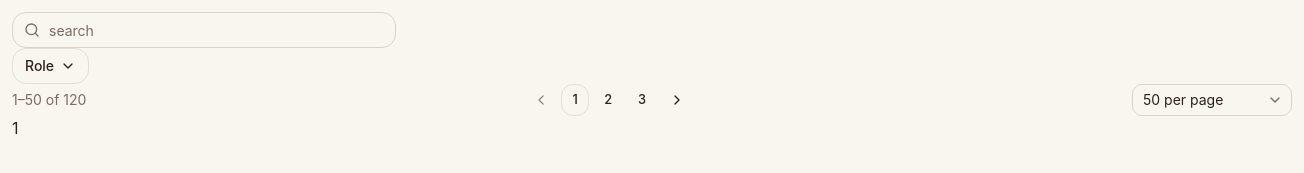
Test: facets › values within a facet accumulate as an OR set and toggle off
The width and height of the screenshot is (1304, 173).
Click the button "Role": (51, 66) [12, 48, 89, 84]
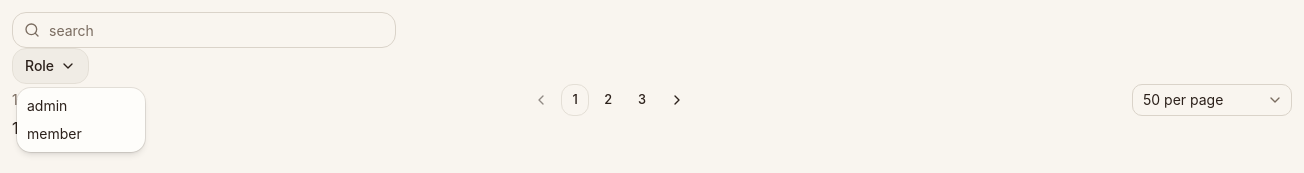
Click the menu item "Admin": (47, 106) [27, 97, 67, 114]
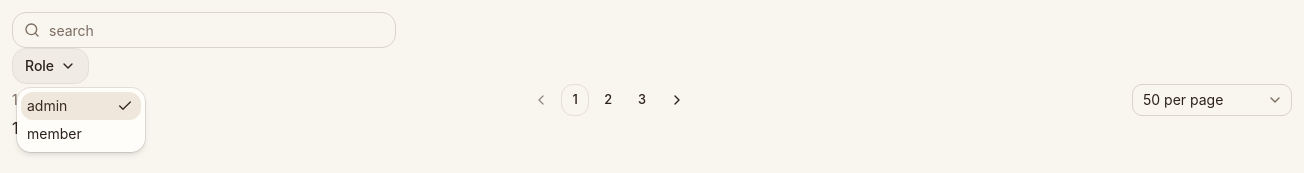
Click the menu item "Member": (54, 134) [27, 125, 82, 142]
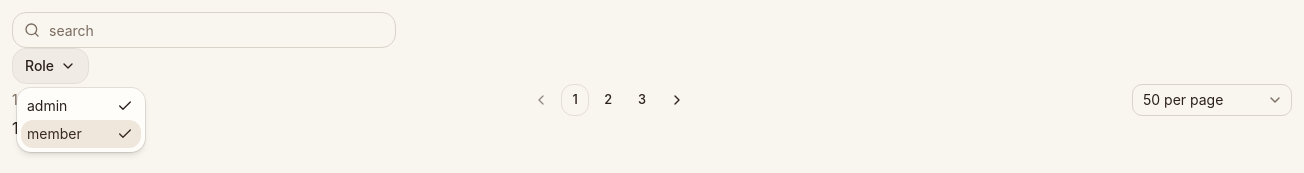
Now the text with test id "role" reads "admin,member", box [18, 118, 132, 138]
Click the menu item "Admin": (47, 106) [21, 92, 141, 120]
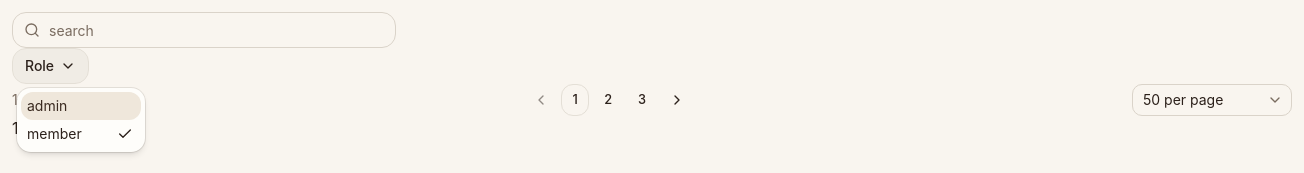
Now the text with test id "role" reads "member", box [18, 118, 81, 138]
